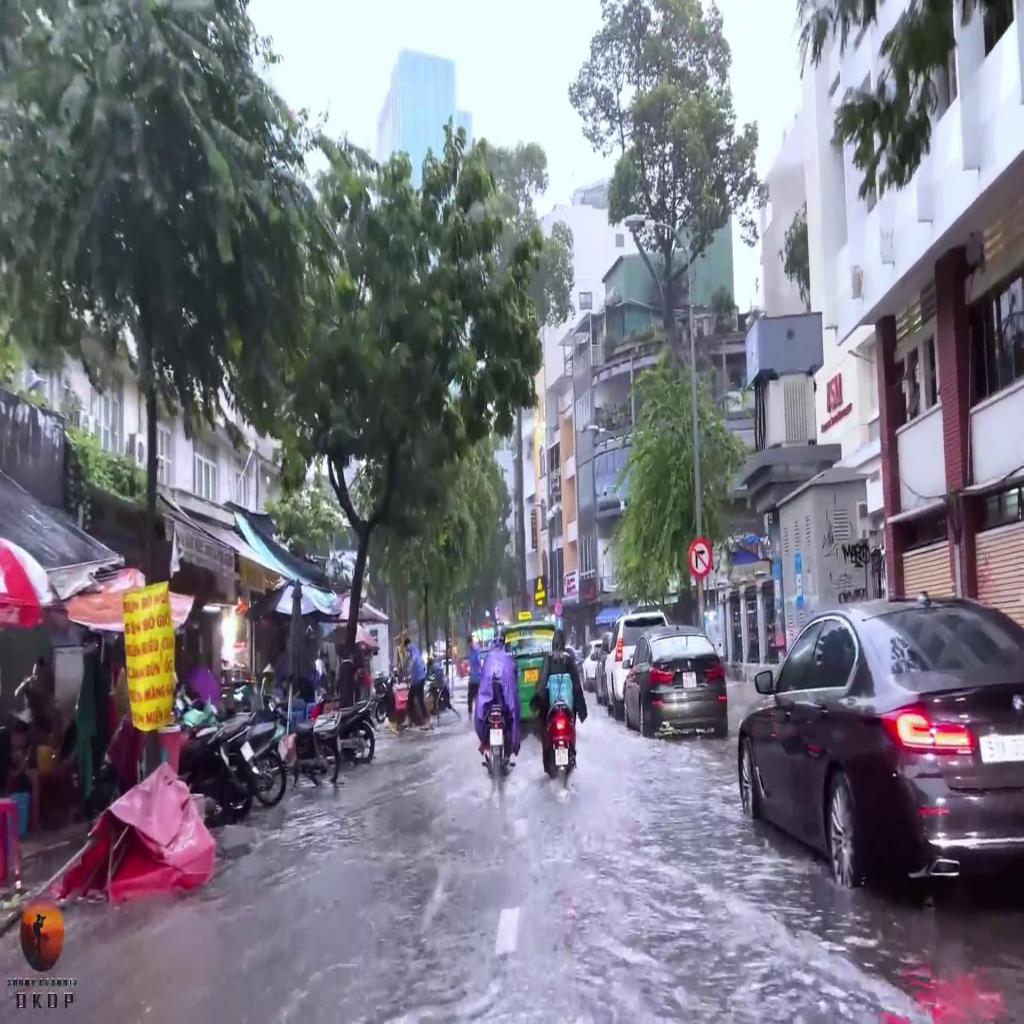cam_re_phai: (688, 537, 712, 581)
